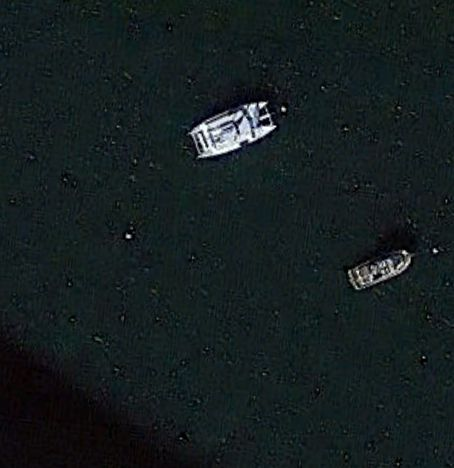boat: (187, 98, 293, 161), (346, 248, 417, 291)
